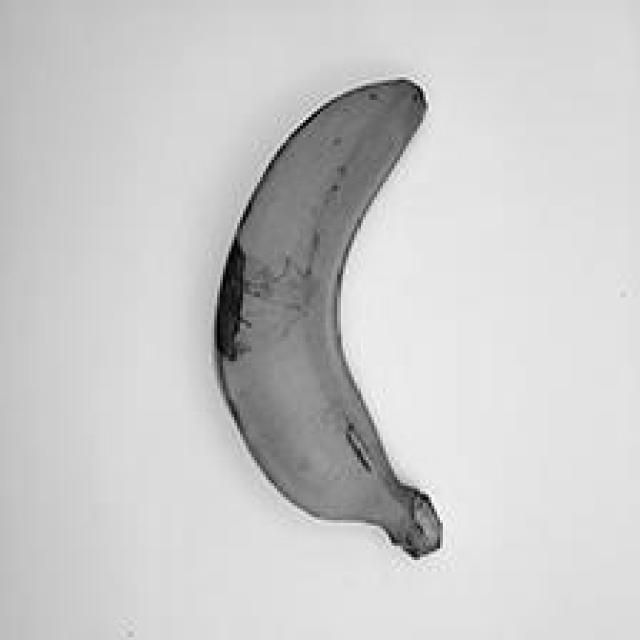Raw: (190, 63, 476, 572)
